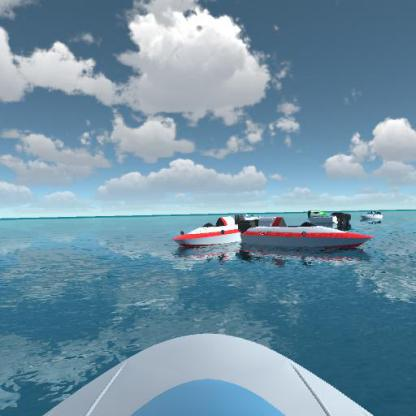usv0: (308, 205, 330, 218)
usv1: (237, 205, 273, 224), (358, 209, 386, 222)
usv3: (237, 211, 375, 262), (164, 211, 248, 252), (303, 211, 353, 227)
